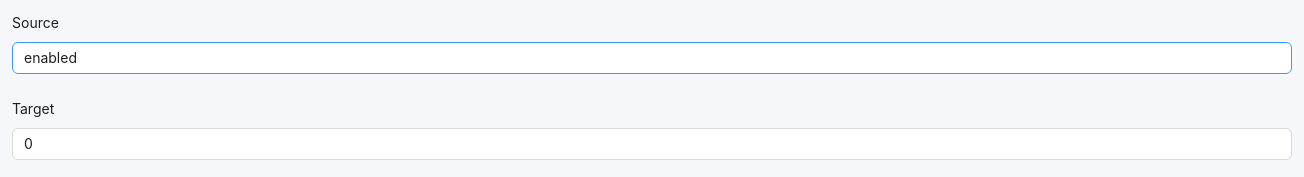
form rendering › reacts to false dependency values and computes zero
This screenshot has width=1304, height=177.
Expected: the number field labelled "Target" holds "0", [13,129,1291,159]
Clear the field labelled "Source" at (652, 58), box [12,42,1292,74]
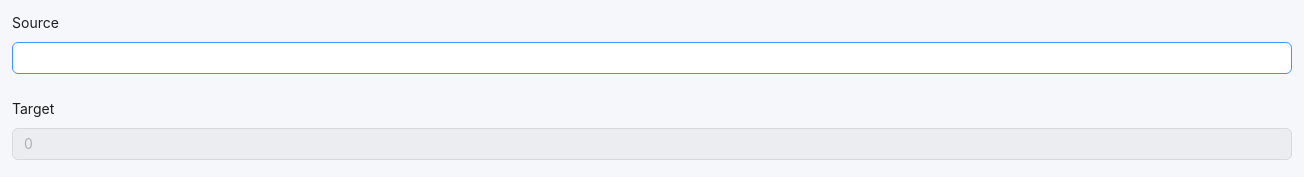
Result: the number field labelled "Target" is disabled at [13,129,1291,159]
